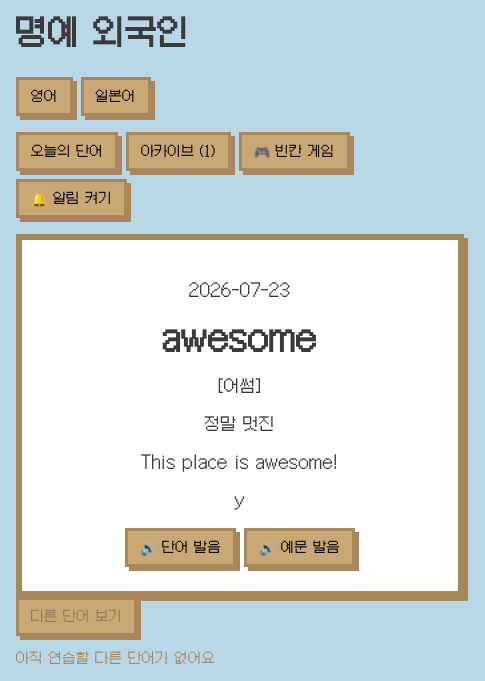
Scenario: App › hides the game tab in Japanese mode and falls back to today if it was open
The width and height of the screenshot is (485, 681).
expect the heading "awesome" is shown: met, box x1=163 y1=320 x2=317 y2=357
Click the button "🎮 빈칸 게임". click: point(294, 151)
box: x1=239 y1=132 x2=350 y2=171
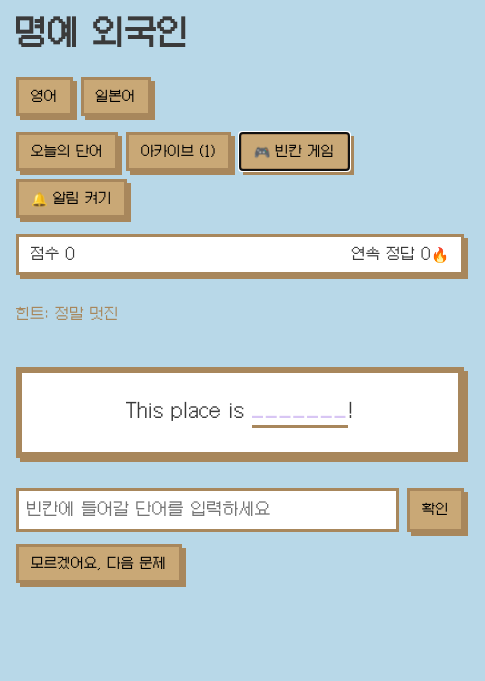
expect the text "This place is _______ !" is shown: met, box x1=16 y1=367 x2=464 y2=458
Click the button "일본어". click: point(116, 96)
box: x1=81 y1=77 x2=151 y2=116
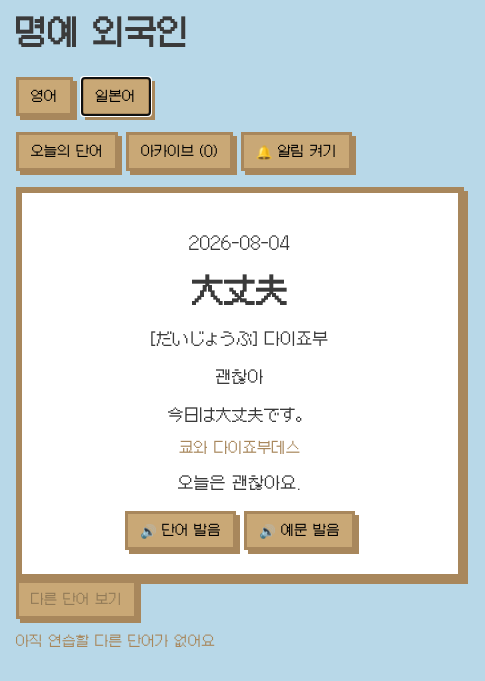
expect the button "🎮 빈칸 게임" is gone: met
expect the heading "大丈夫" is shown: met, box x1=192 y1=273 x2=288 y2=310
